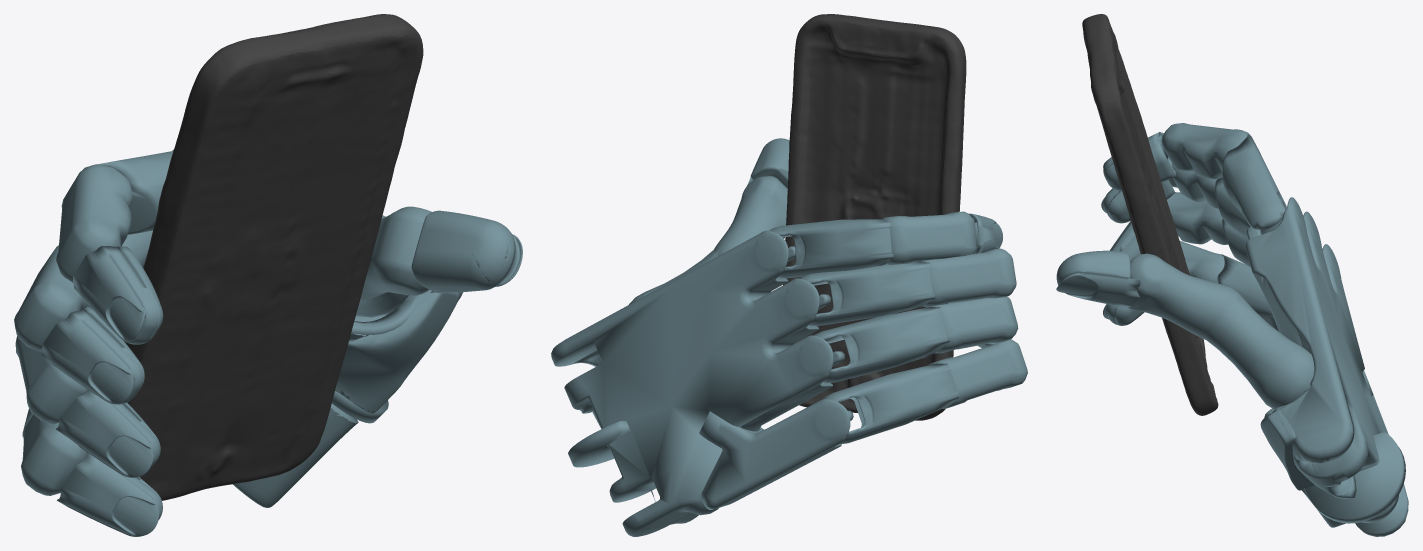
The picture shows the model from 3 angles, left to right: view 1: azimuth 30°, elevation 25°; view 2: azimuth 150°, elevation 25°; view 3: azimuth 270°, elevation 25°; orthographic projection. The views are drawn at different scales.
Parts seen in each view (by area): view 1: world; view 2: world; view 3: world.
Boxes of the visible parts, x1,y1,x2,y2 form: world: (14, 14, 522, 536); world: (551, 14, 1027, 536); world: (1056, 14, 1408, 536).
Bounding box in the file's own units: 0.1689 × 0.185 × 0.1332.
Materials: 1 (1 with a texture image).
